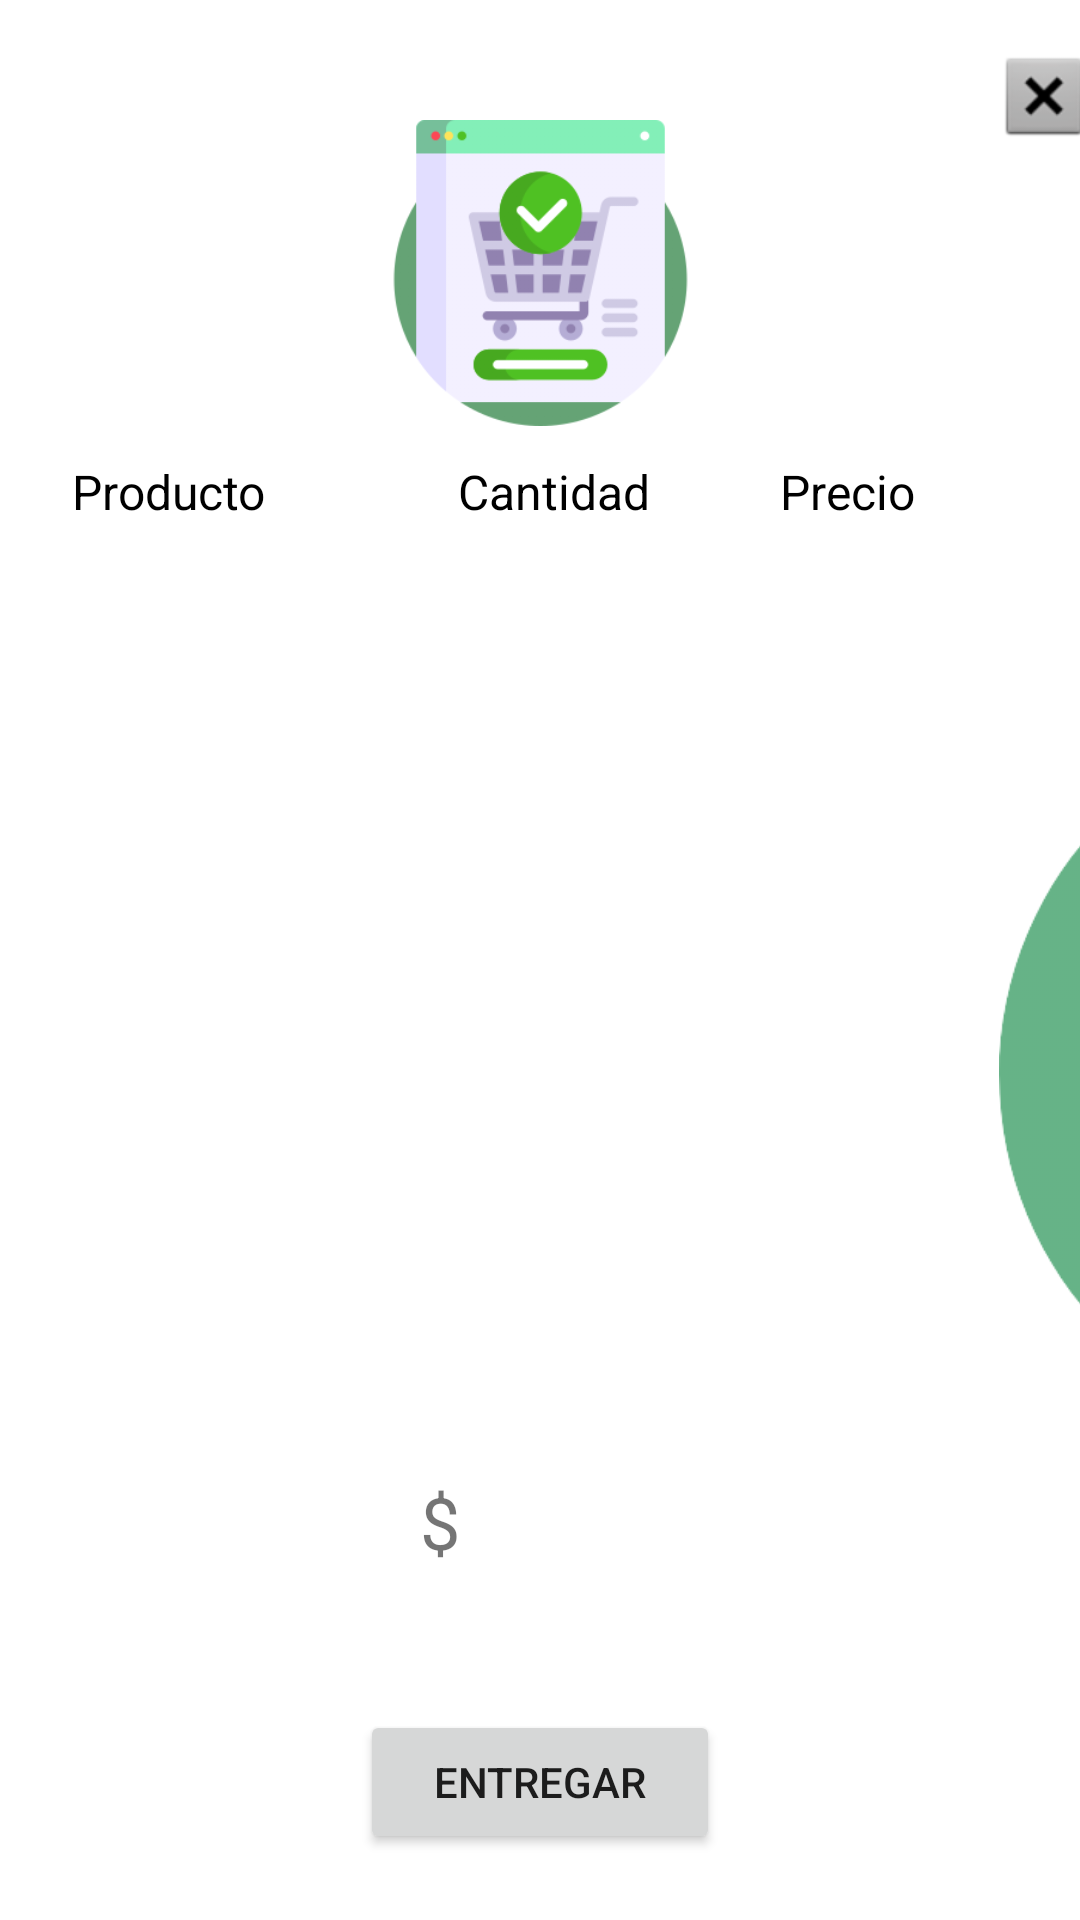

Icons on this 1080×1920 Android screen, each with its box as (x1, y1, x2, y2):
pedido: (393, 120, 688, 426)
